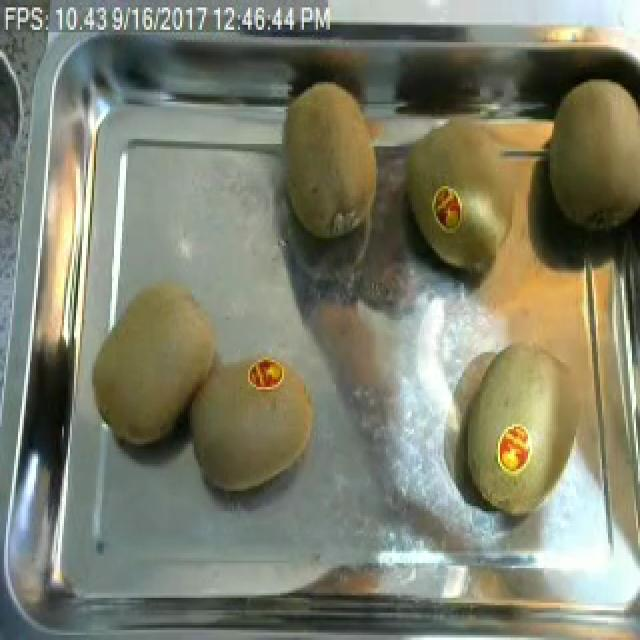Fruit: (86, 268, 230, 456), (176, 350, 326, 501), (530, 59, 640, 246), (272, 70, 386, 248), (490, 416, 540, 484)
